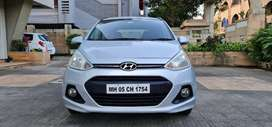MH05CH1754: (106, 83, 150, 93)
